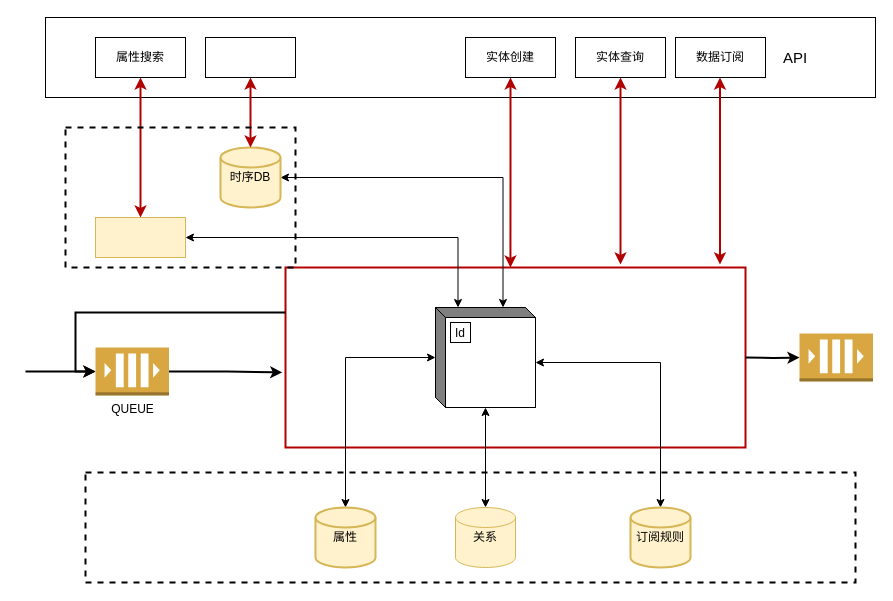
This 893x601 diagram has some shape labels left out. Here are the shapes that lost their labels. From the top down, the box of each, then its label:
(204, 36, 296, 78): 时序查询
(94, 216, 186, 258): 搜索引擎
(434, 306, 536, 408): Actor
(798, 332, 873, 382): 订阅
